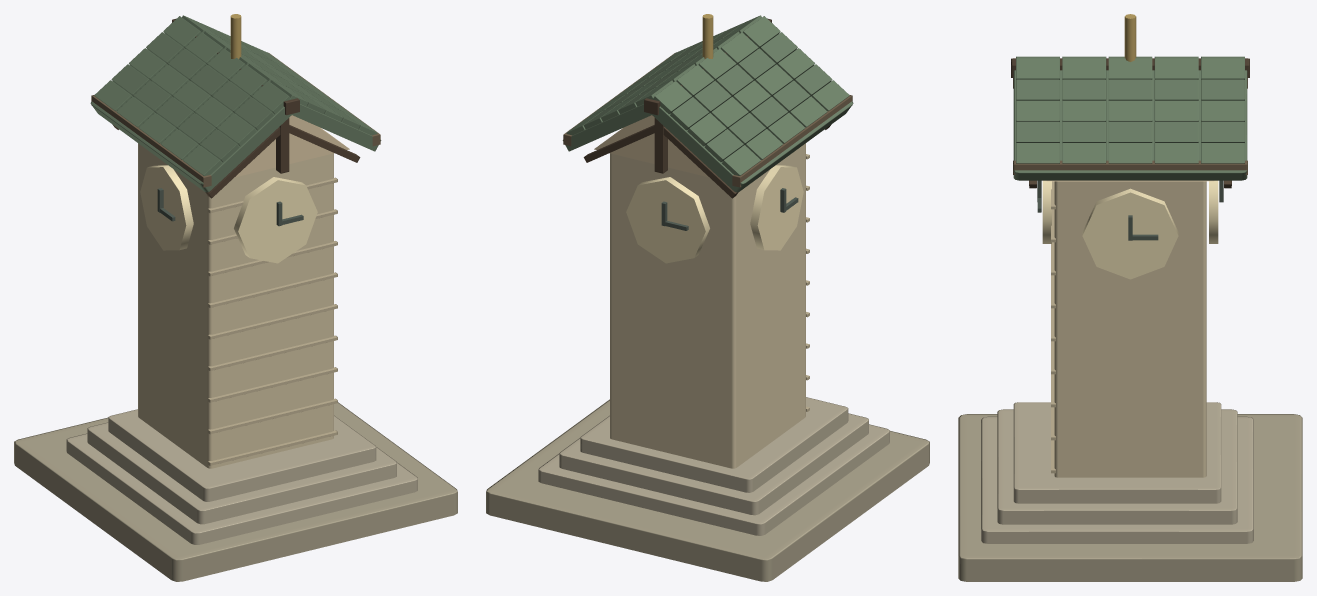
The model's file is clock-0.glb.
3 views of the same model, side by side, from view 1: azimuth 30°, elevation 25°; view 2: azimuth 150°, elevation 25°; view 3: azimuth 270°, elevation 25° (orthographic). The views are drawn at different scales.
Visible parts, largest first — view 1: clock-0-0; view 2: clock-0-0; view 3: clock-0-0.
Boxes of the visible parts, x1,y1,x2,y2 form: clock-0-0: (14,14,457,581); clock-0-0: (486,14,929,581); clock-0-0: (958,14,1302,581).
Size of the model in its own units: 2.65 by 4.19 by 2.65.
